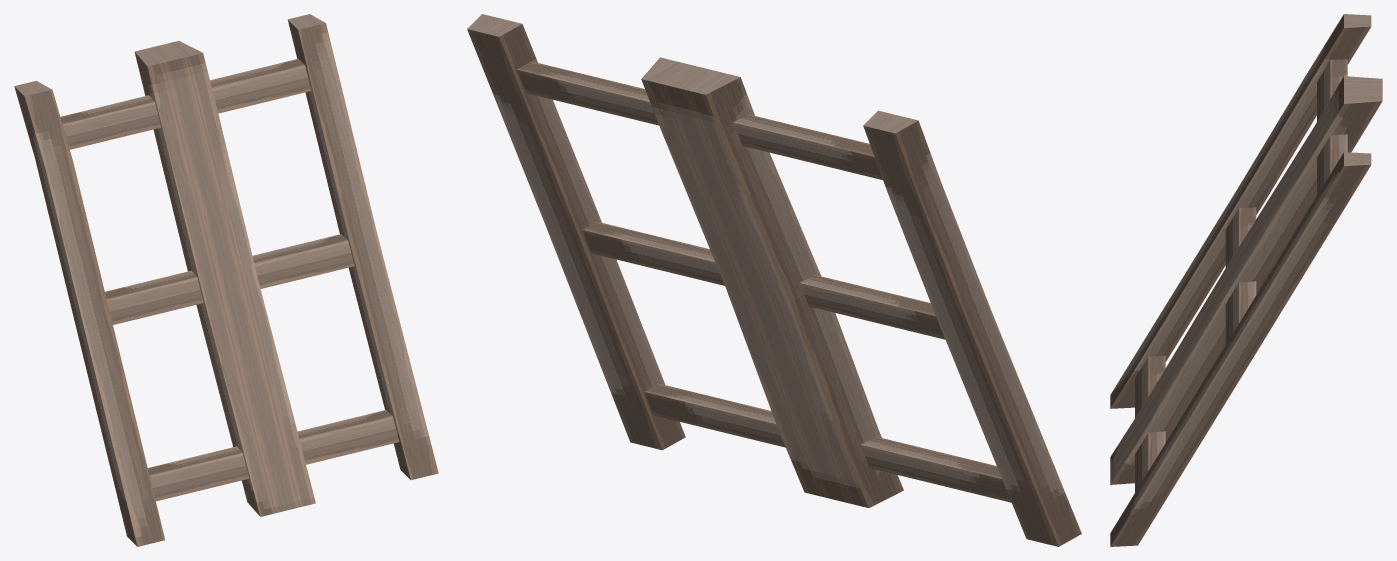
The model's file is SM_RoofPoles.fbx.
3 views of the same model, side by side, from view 1: azimuth 30°, elevation 25°; view 2: azimuth 150°, elevation 25°; view 3: azimuth 270°, elevation 25° (orthographic). The views are drawn at different scales.
Parts seen in each view (by area): view 1: SM_RoofPoles_LOD0; view 2: SM_RoofPoles_LOD0; view 3: SM_RoofPoles_LOD0.
Boxes of the visible parts, x1,y1,x2,y2 form: SM_RoofPoles_LOD0: [14, 14, 438, 546]; SM_RoofPoles_LOD0: [467, 14, 1081, 546]; SM_RoofPoles_LOD0: [1110, 14, 1382, 546].
Size of the model in its own units: 771 by 583 by 900.
